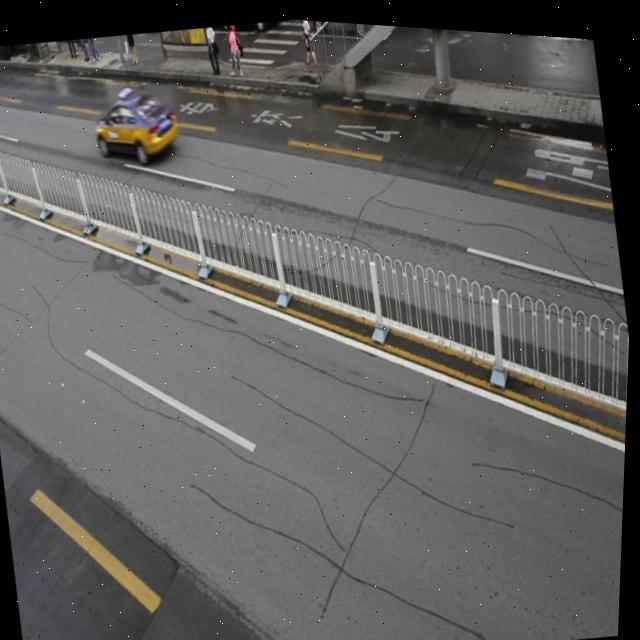car: (89, 80, 185, 171)
